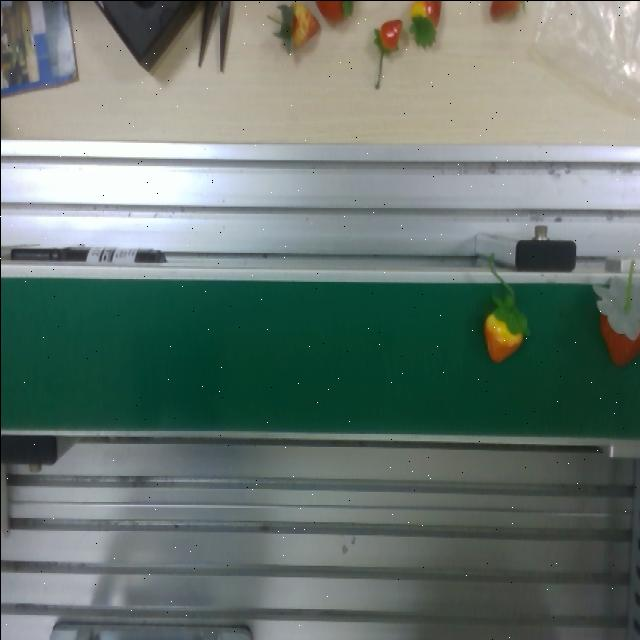Small Ripe Strawberry: (583, 281, 640, 381)
Small Unripe Strawberry: (466, 287, 530, 367)
conveyor: (0, 262, 640, 449)
